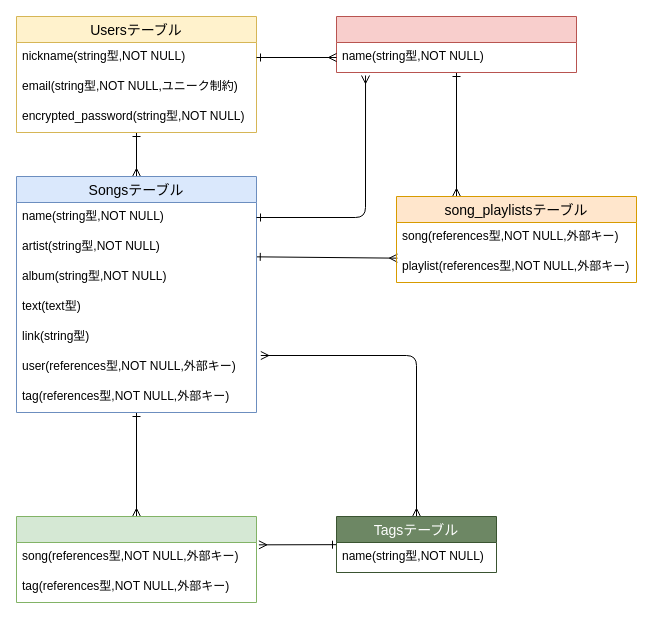
Image size: 653x619. Some labels were removed from this diagram. The shapes that lost their labels are listed below. From the top down, each one's box as (x1, y1, x2, y2) in pixels, then its label:
(336, 16, 576, 72): Playlistsテーブル
(16, 516, 256, 602): Song_tagsテーブル
